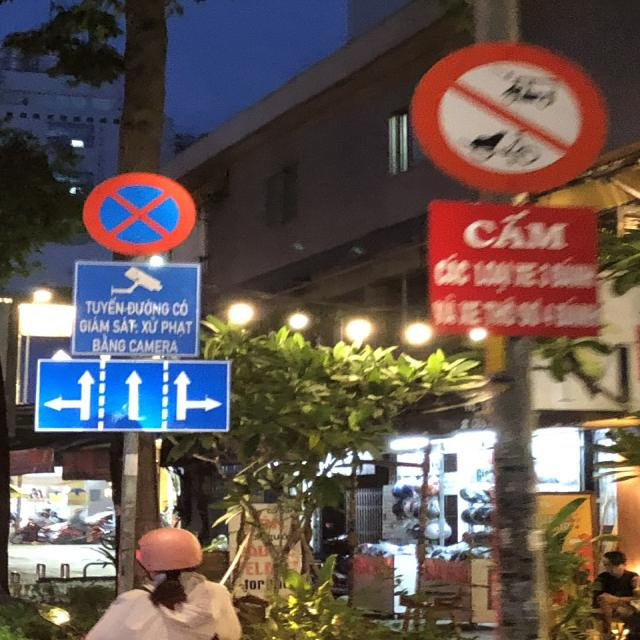Bien bao cam dung xe va do xe: (72, 169, 208, 260)
